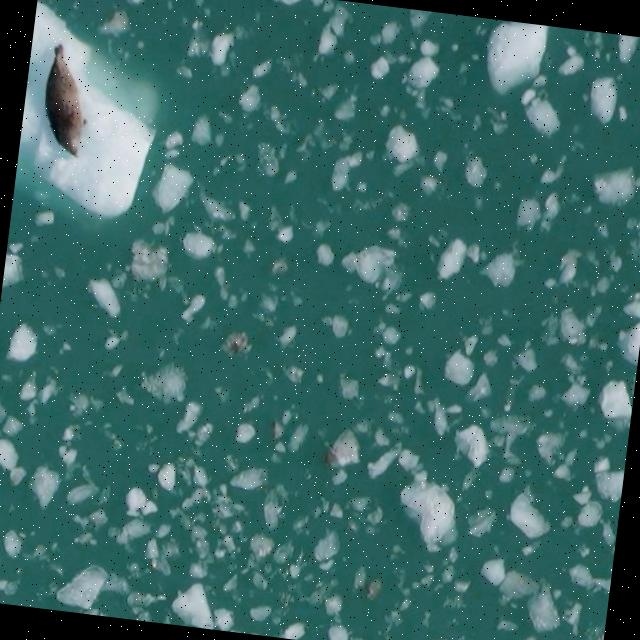seal: (44, 41, 86, 155)
